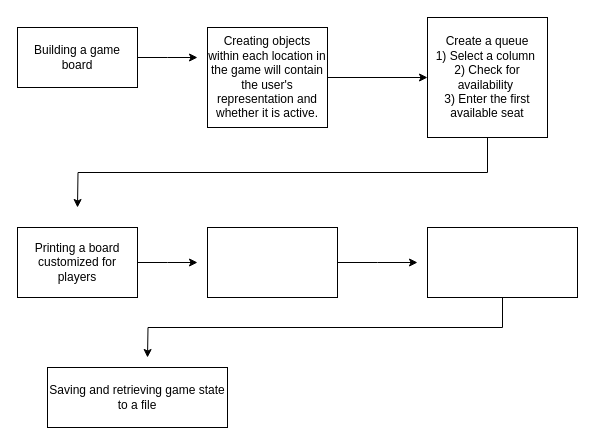
The diagram is 595 pixels wide and 445 high, and some of its shapes have lost their labels. Here are the shapes that lost their labels. From the top down, the box of each, then its label:
(206, 226, 338, 298): Checking win and loss conditions
(426, 226, 578, 298): Central loop generator with automation of turns and times
